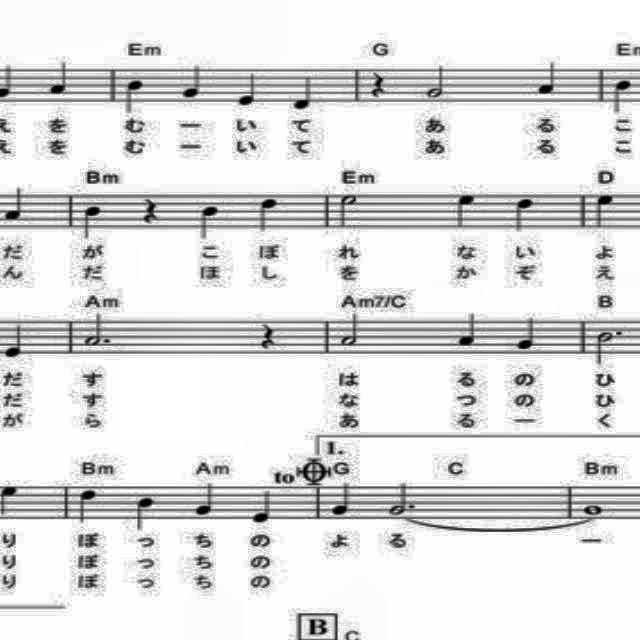Full-note: (580, 500, 606, 520)
Half-dot: (596, 322, 628, 371), (386, 478, 418, 518), (83, 308, 113, 350)
Half-note: (336, 310, 366, 350), (421, 59, 449, 101), (334, 192, 362, 234)
Quarter-note: (510, 312, 546, 356), (78, 199, 110, 243), (291, 67, 321, 113), (244, 489, 280, 526), (72, 488, 105, 528), (130, 490, 158, 536), (234, 66, 262, 110), (192, 477, 220, 521), (512, 192, 540, 235), (179, 59, 207, 101), (453, 191, 481, 233), (328, 479, 356, 521), (592, 189, 618, 233), (454, 310, 482, 350), (3, 183, 30, 224), (608, 76, 636, 115), (198, 199, 224, 241), (44, 59, 72, 97), (535, 58, 561, 98), (2, 320, 28, 360), (124, 77, 148, 119), (258, 197, 278, 236)
Quarter-rest: (137, 195, 163, 233), (257, 320, 283, 356), (370, 68, 392, 104)
